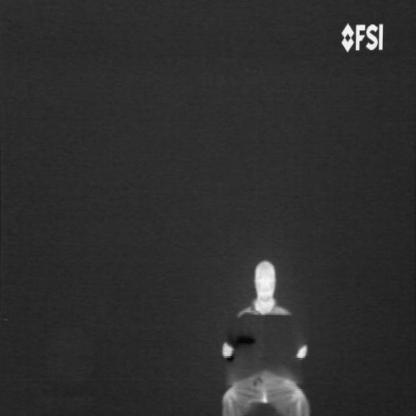weapon: (224, 324, 259, 366)
